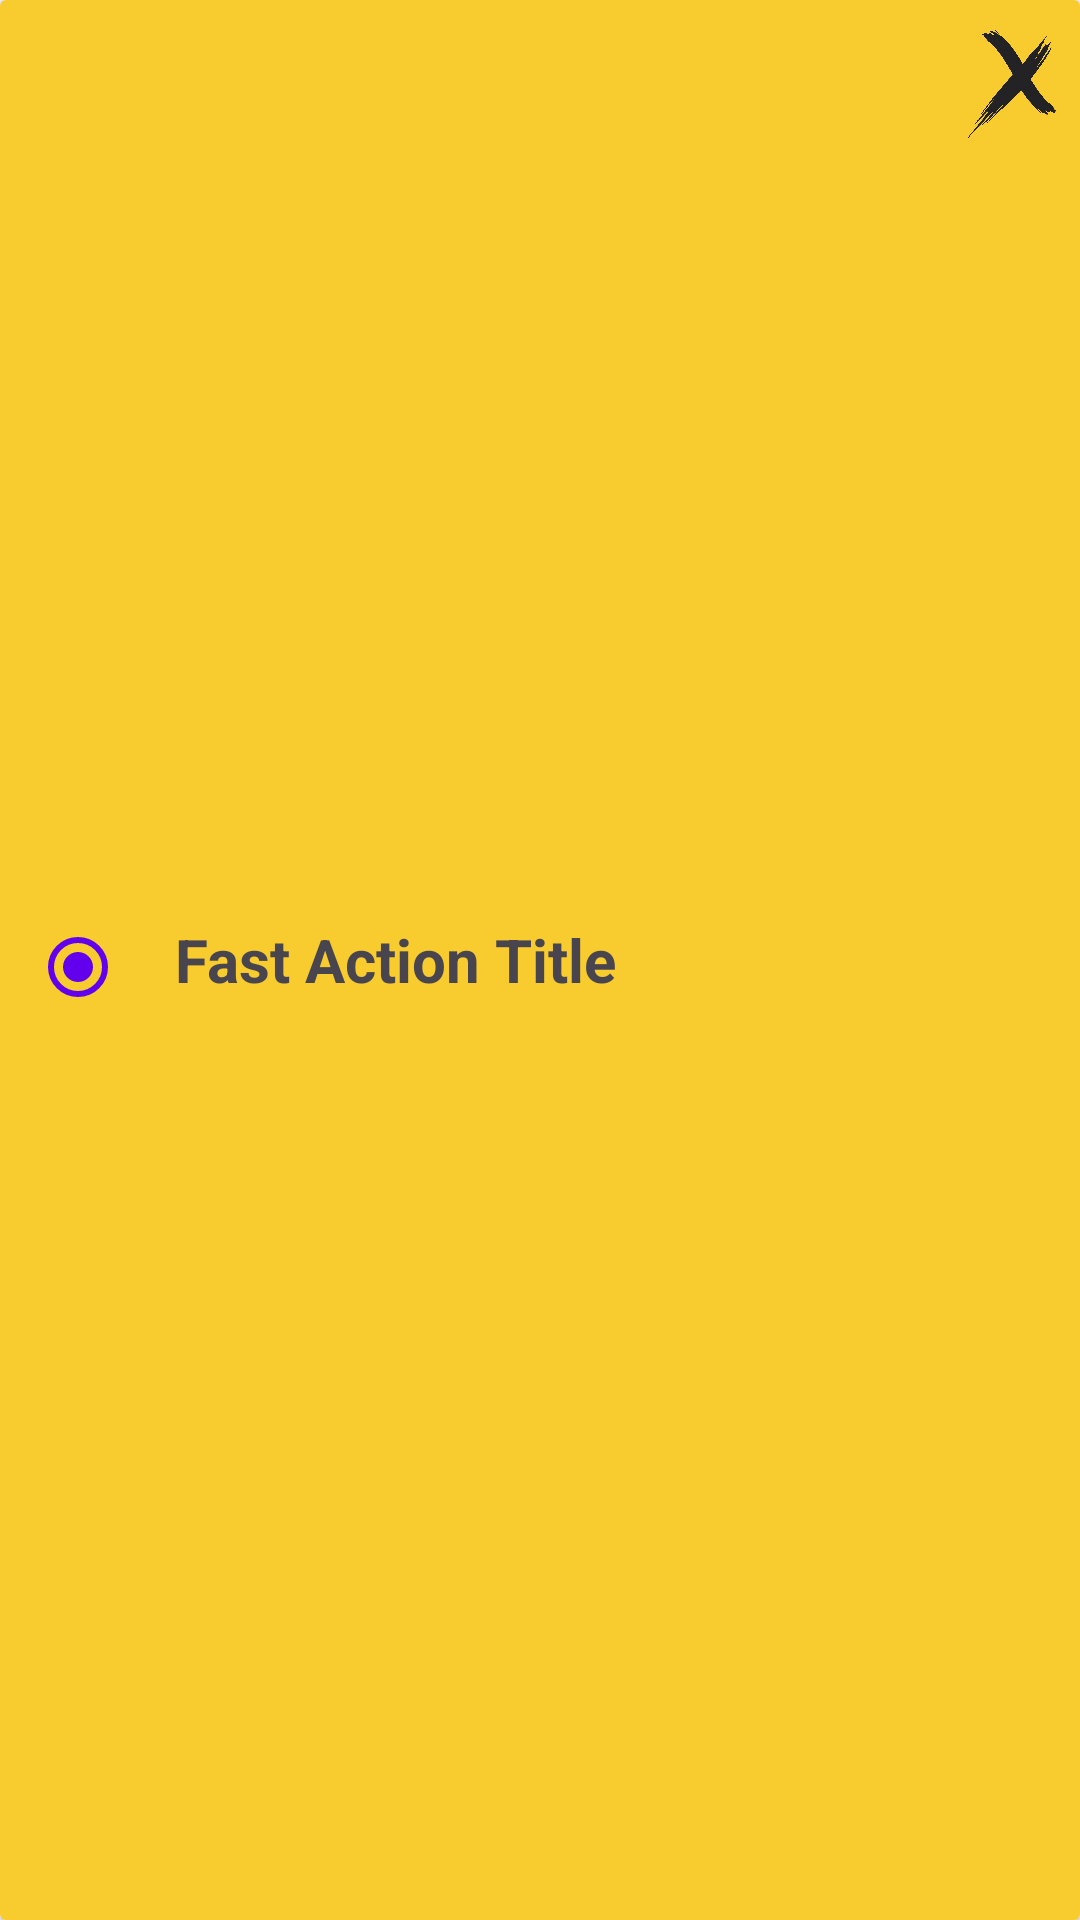

Icons on this 1080*1920 Android screen, each with its box as (x1, y1, x2, y2):
cross: (968, 30, 1056, 138)
